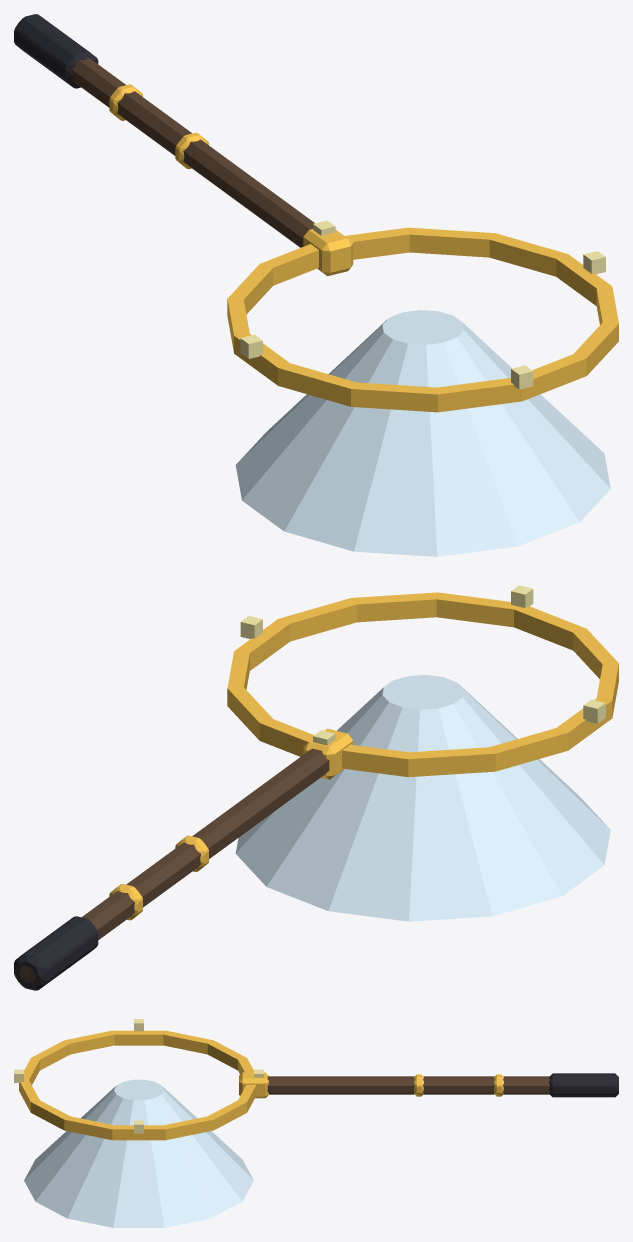
Rendered from CatCafe_Item_Net_L3.glb.
The picture shows the model from 3 angles, top to bottom: view 1: azimuth 30°, elevation 25°; view 2: azimuth 150°, elevation 25°; view 3: azimuth 270°, elevation 25°; orthographic projection. The views are drawn at different scales.
Parts seen in each view (by area): view 1: CatCafe_Item_Net_L3_Bag, CatCafe_Item_Net_L3_Handle; view 2: CatCafe_Item_Net_L3_Bag, CatCafe_Item_Net_L3_Handle; view 3: CatCafe_Item_Net_L3_Bag, CatCafe_Item_Net_L3_Handle.
Boxes of the visible parts, <box> form: CatCafe_Item_Net_L3_Bag: <box>235,310,610,556</box>; CatCafe_Item_Net_L3_Handle: <box>14,14,618,412</box>; CatCafe_Item_Net_L3_Bag: <box>235,675,610,921</box>; CatCafe_Item_Net_L3_Handle: <box>14,585,618,990</box>; CatCafe_Item_Net_L3_Bag: <box>24,1079,253,1227</box>; CatCafe_Item_Net_L3_Handle: <box>14,1019,618,1140</box>.
Size of the model in its own units: 2.5 by 1.2 by 6.05.
Materials: 1 (1 with a texture image).
